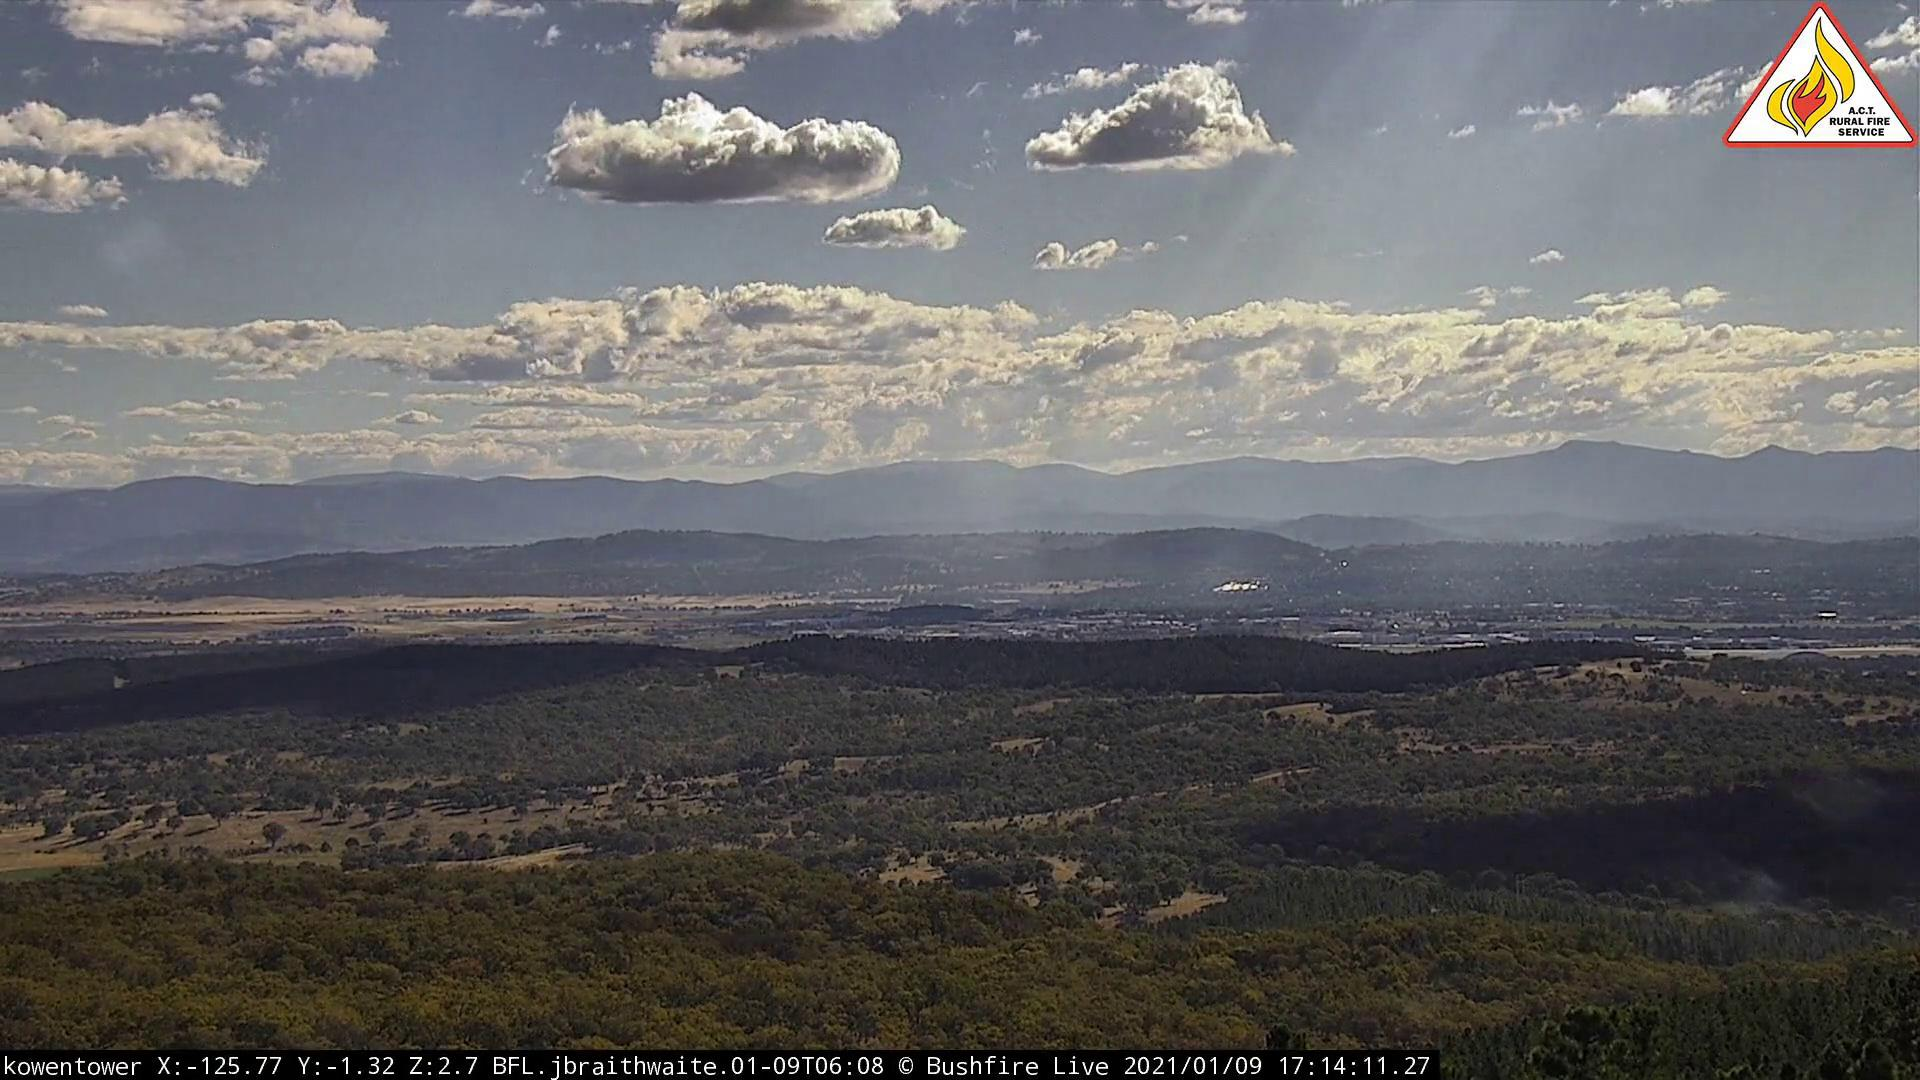Smoke: (914, 533, 1029, 612)
